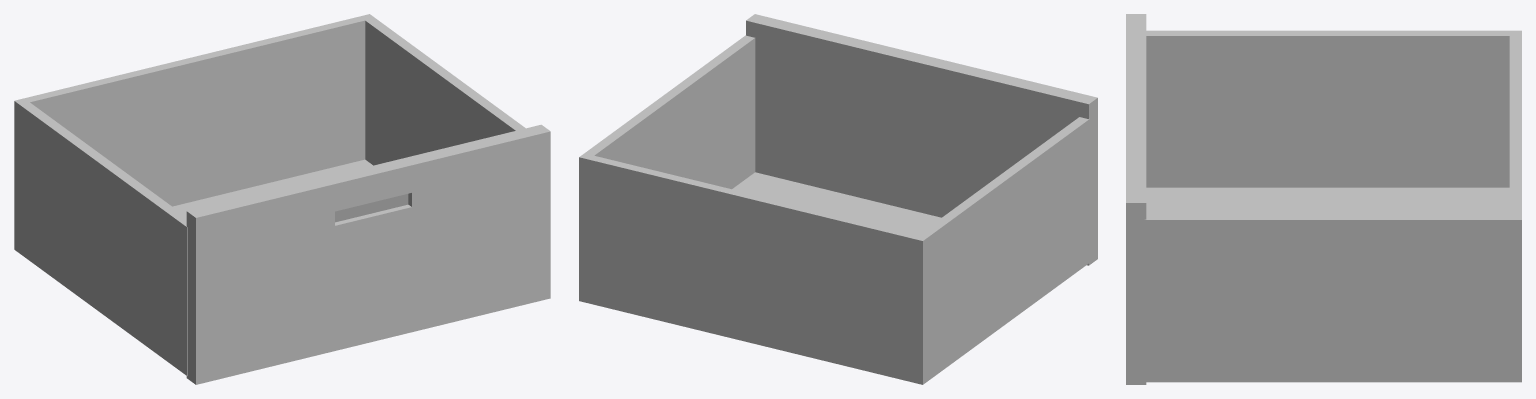
The model's file is Refrigerator1_C2_04.fbx.
3 renders of one model, left to right at view 1: azimuth 30°, elevation 25°; view 2: azimuth 150°, elevation 25°; view 3: azimuth 270°, elevation 25°, orthographic. The views are drawn at different scales.
Parts seen in each view (by area): view 1: Refrigerator1_C2_04; view 2: Refrigerator1_C2_04; view 3: Refrigerator1_C2_04.
Boxes of the visible parts, x1,y1,x2,y2 form: Refrigerator1_C2_04: [14, 14, 550, 384]; Refrigerator1_C2_04: [579, 14, 1097, 384]; Refrigerator1_C2_04: [1126, 14, 1521, 384].
Bounding box in the file's own units: 51.92 × 23.3 × 45.88.
